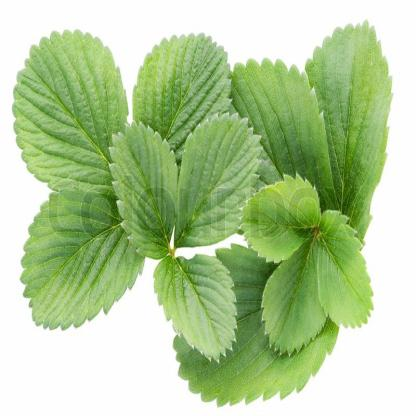strawberry leaf: (163, 245, 334, 407), (15, 26, 139, 206), (21, 184, 147, 336), (228, 64, 341, 221), (178, 101, 267, 257), (130, 30, 232, 159), (106, 115, 184, 253), (152, 246, 243, 362), (259, 234, 333, 352), (235, 174, 321, 265), (310, 208, 374, 329)
